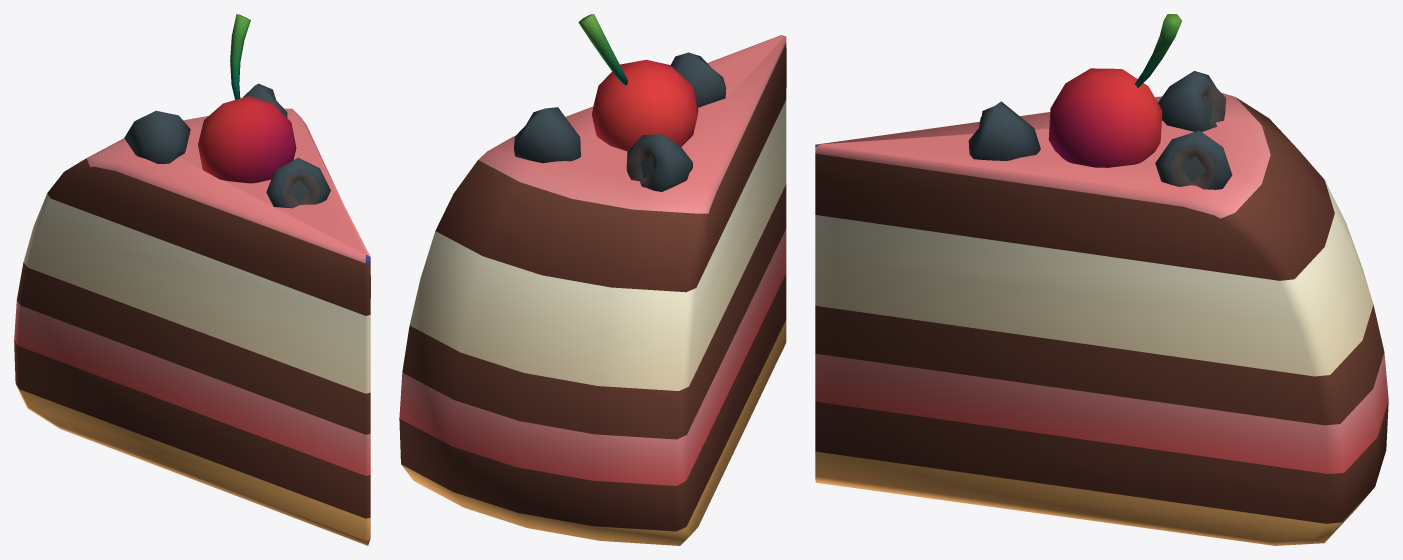
File: cheesecake_002.fbx
3 views of the same model, side by side, from view 1: azimuth 30°, elevation 25°; view 2: azimuth 150°, elevation 25°; view 3: azimuth 270°, elevation 25° (orthographic). The views are drawn at different scales.
Visible parts, largest first — view 1: cheesecake_002; view 2: cheesecake_002; view 3: cheesecake_002.
Boxes of the visible parts, x1,y1,x2,y2 form: cheesecake_002: (14, 14, 370, 545); cheesecake_002: (399, 14, 786, 545); cheesecake_002: (815, 14, 1388, 545).
Size of the model in its own units: 8.75 by 14.31 by 13.28.
